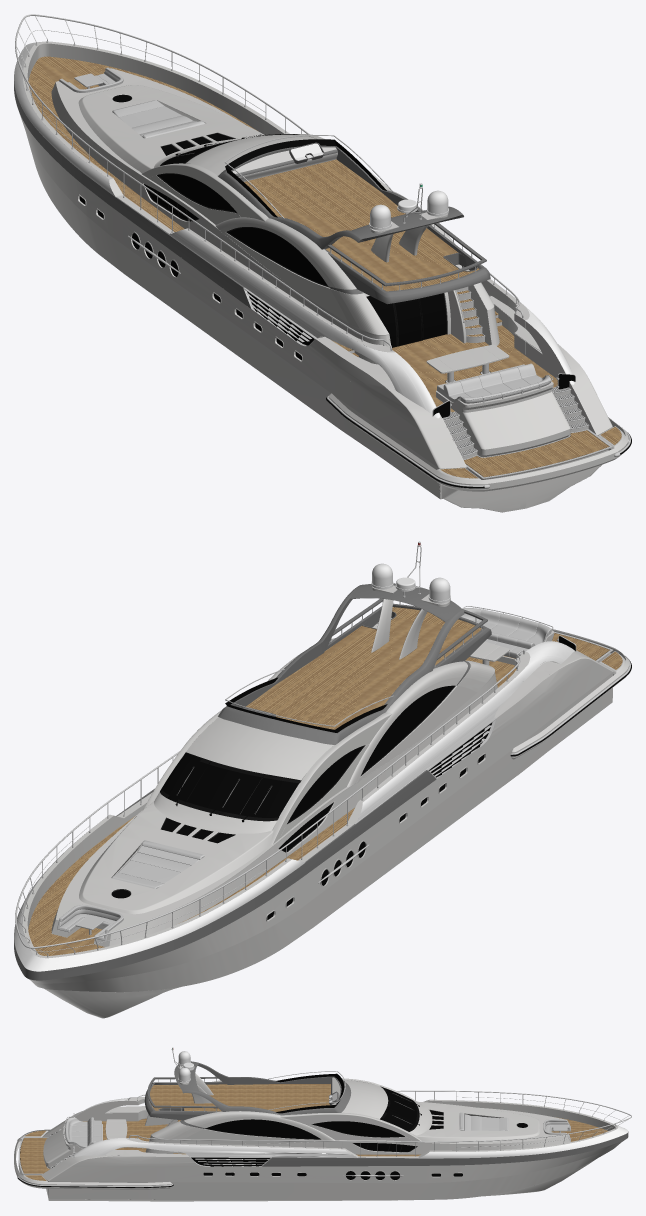
File: yacht.glb
The picture shows the model from 3 angles, top to bottom: view 1: azimuth 30°, elevation 25°; view 2: azimuth 150°, elevation 25°; view 3: azimuth 270°, elevation 25°; orthographic projection. The views are drawn at different scales.
Size of the model in its own units: 9.92 by 11.68 by 45.21.
16 materials, 1 textured.
